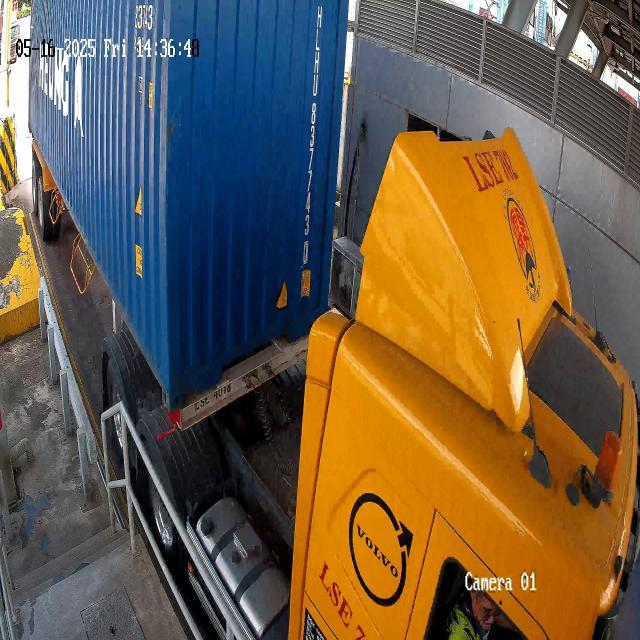container_number: (292, 0, 330, 274)
